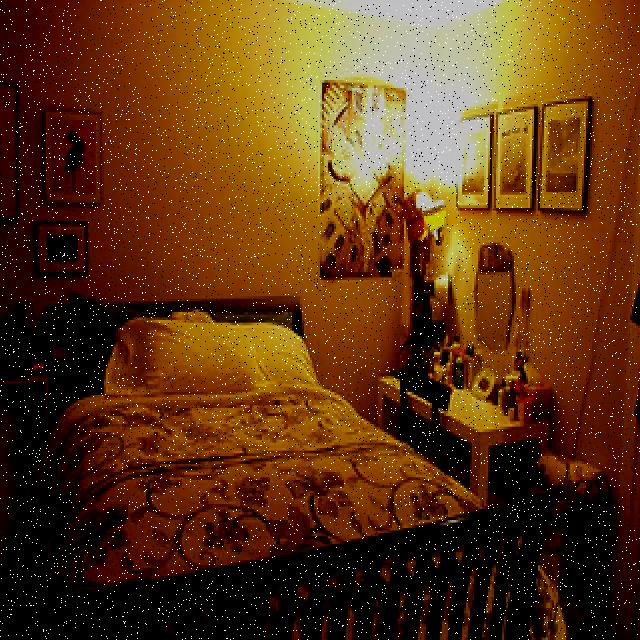bed: (49, 303, 512, 640)
